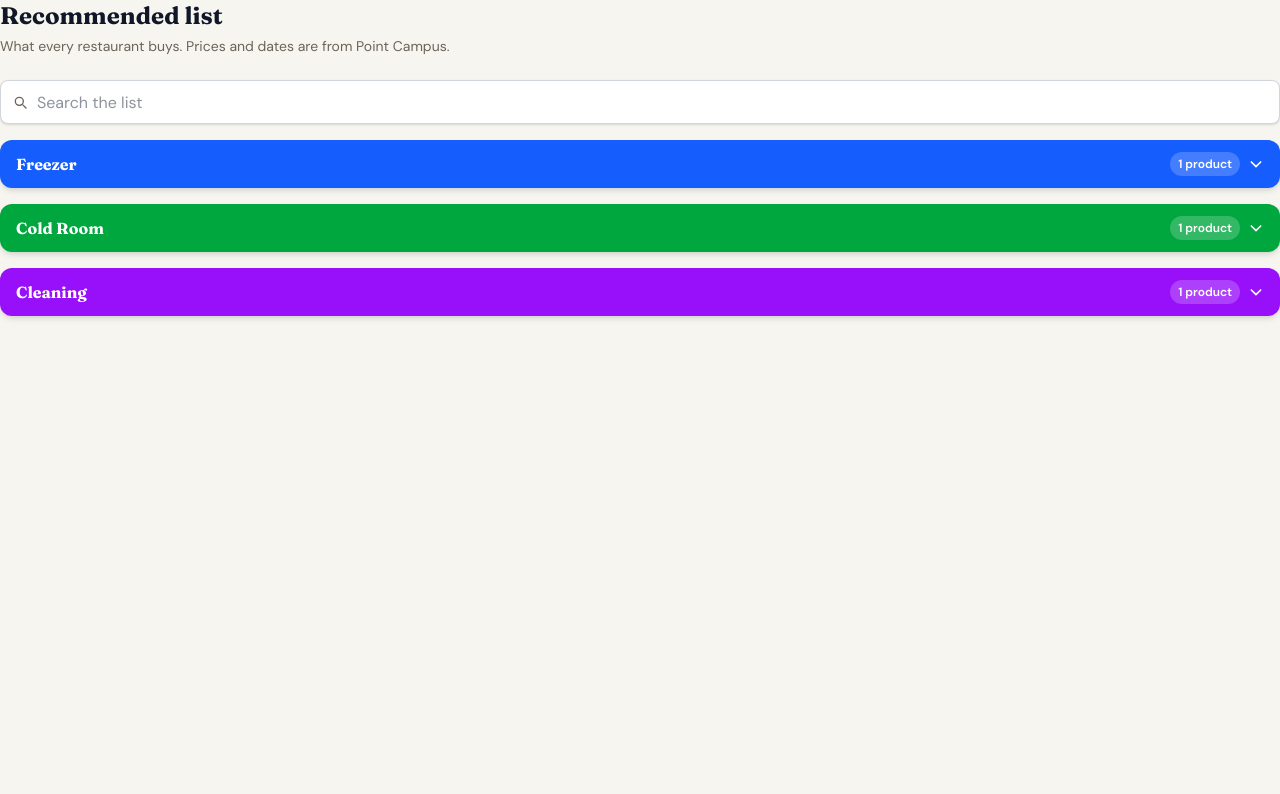
Test: the Recommended list › starts with every section folded, and opens one on a tap
The image size is (1280, 794).
Check: the heading "Green Peppers" is not shown
Click the button "Cold Room 1 product" at (60, 228), box [0, 204, 1279, 252]
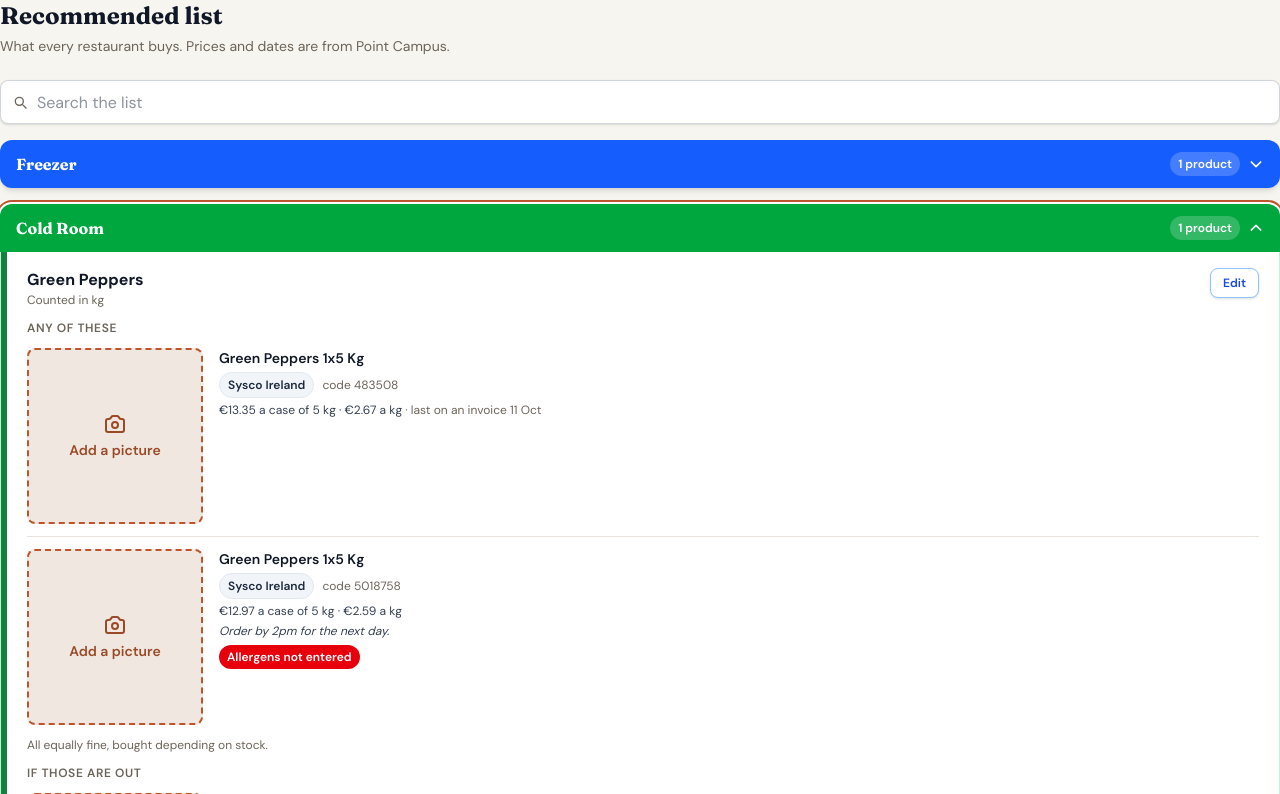
Check: the button "Cold Room 1 product" is expanded
Check: the heading "Green Peppers" is shown, box [27, 268, 144, 292]
Click the button "Cold Room 1 product" at (60, 228), box [0, 204, 1279, 252]
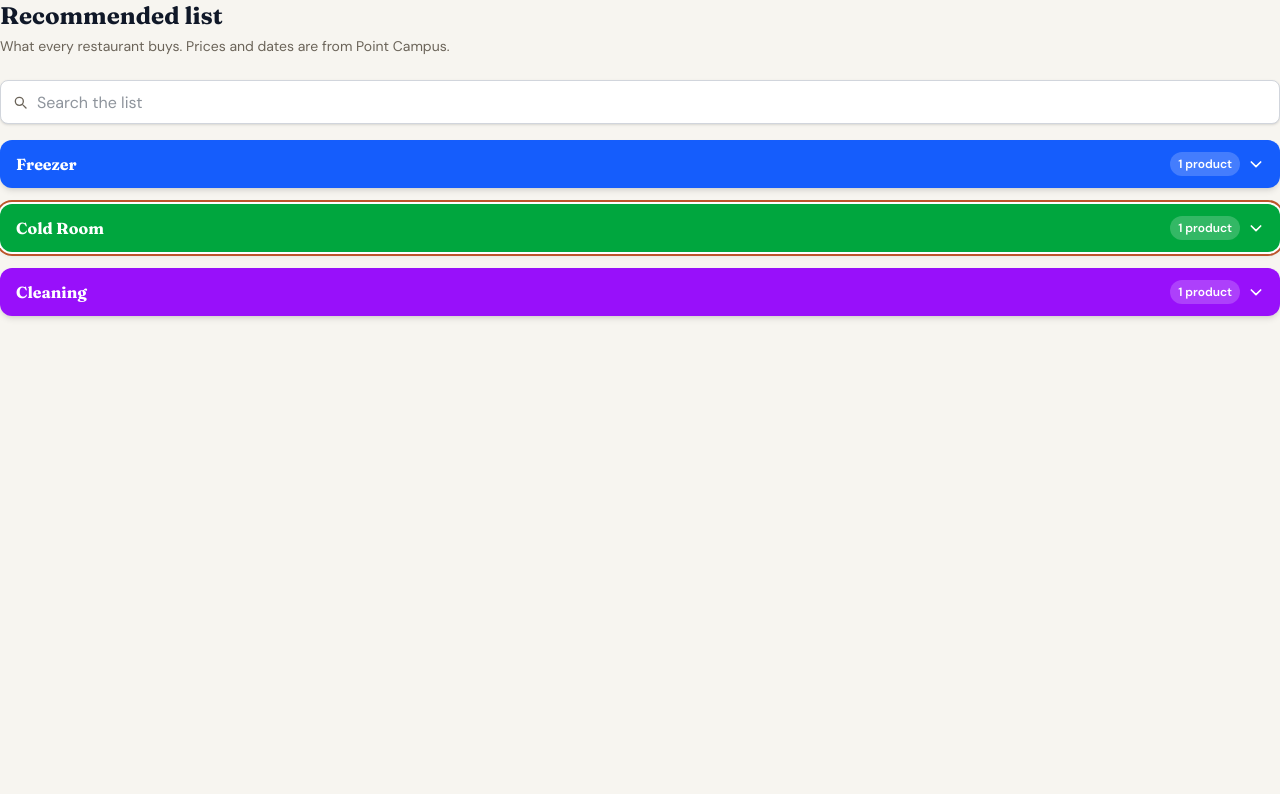
Check: the heading "Green Peppers" is gone
